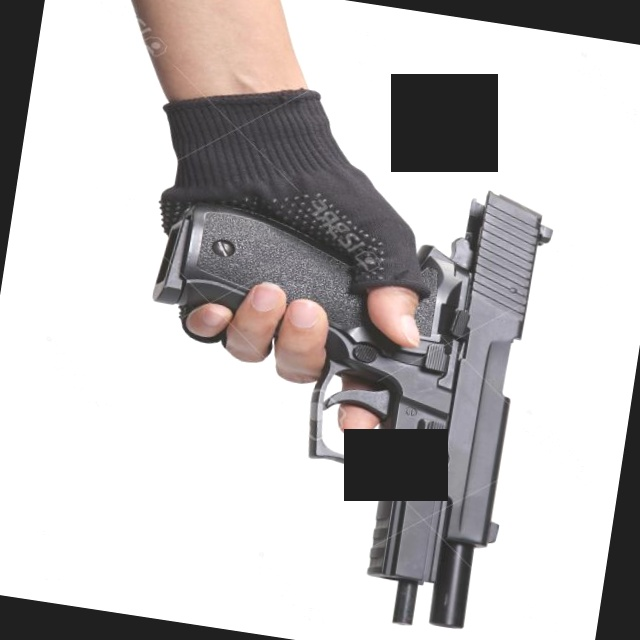gun: (44, 120, 584, 640)
